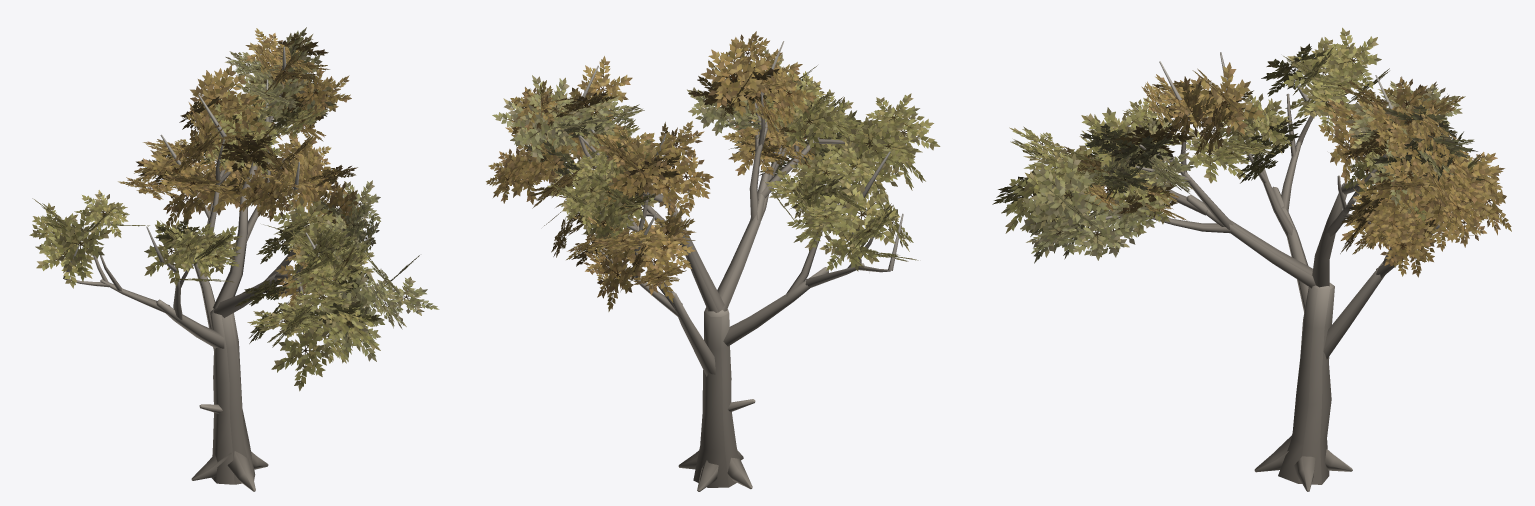
Rendered from tree_dry_b.glb.
3 views of the same model, side by side, from view 1: azimuth 30°, elevation 25°; view 2: azimuth 150°, elevation 25°; view 3: azimuth 270°, elevation 25° (orthographic). The views are drawn at different scales.
Parts seen in each view (by area): view 1: tree_dry_b; view 2: tree_dry_b; view 3: tree_dry_b.
Boxes of the visible parts, left/top/right/bottom form: tree_dry_b: left=29, top=27, right=439, bottom=491; tree_dry_b: left=486, top=31, right=940, bottom=491; tree_dry_b: left=992, top=27, right=1511, bottom=491.
Size of the model in its own units: 8.14 by 8.35 by 8.93.
Materials: 2 (1 with a texture image).
